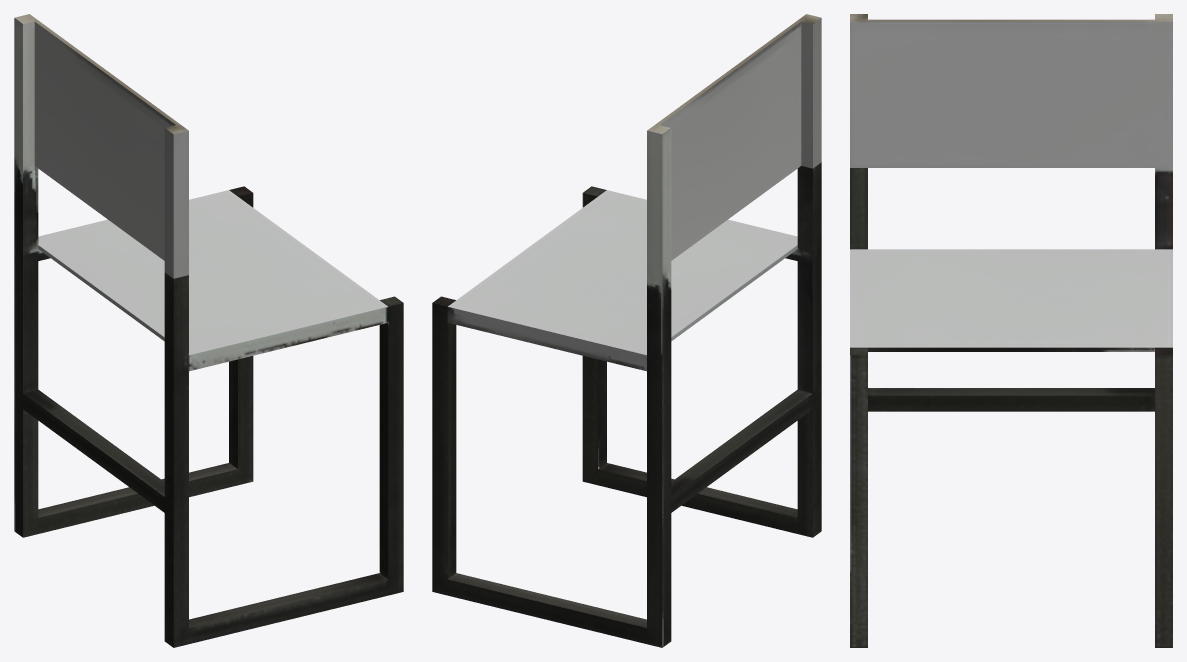
3 views of the same model, side by side, from view 1: azimuth 30°, elevation 25°; view 2: azimuth 150°, elevation 25°; view 3: azimuth 270°, elevation 25° (orthographic).
Visible parts, largest first — view 1: Node; view 2: Node; view 3: Node.
Part boxes in pixels (x1,y1,x2,y2): Node: (14,14,403,647); Node: (432,14,821,647); Node: (850,14,1172,647).
Size of the model in its own units: 0.3281 by 0.7 by 0.3938.
Materials: 1 (1 with a texture image).
